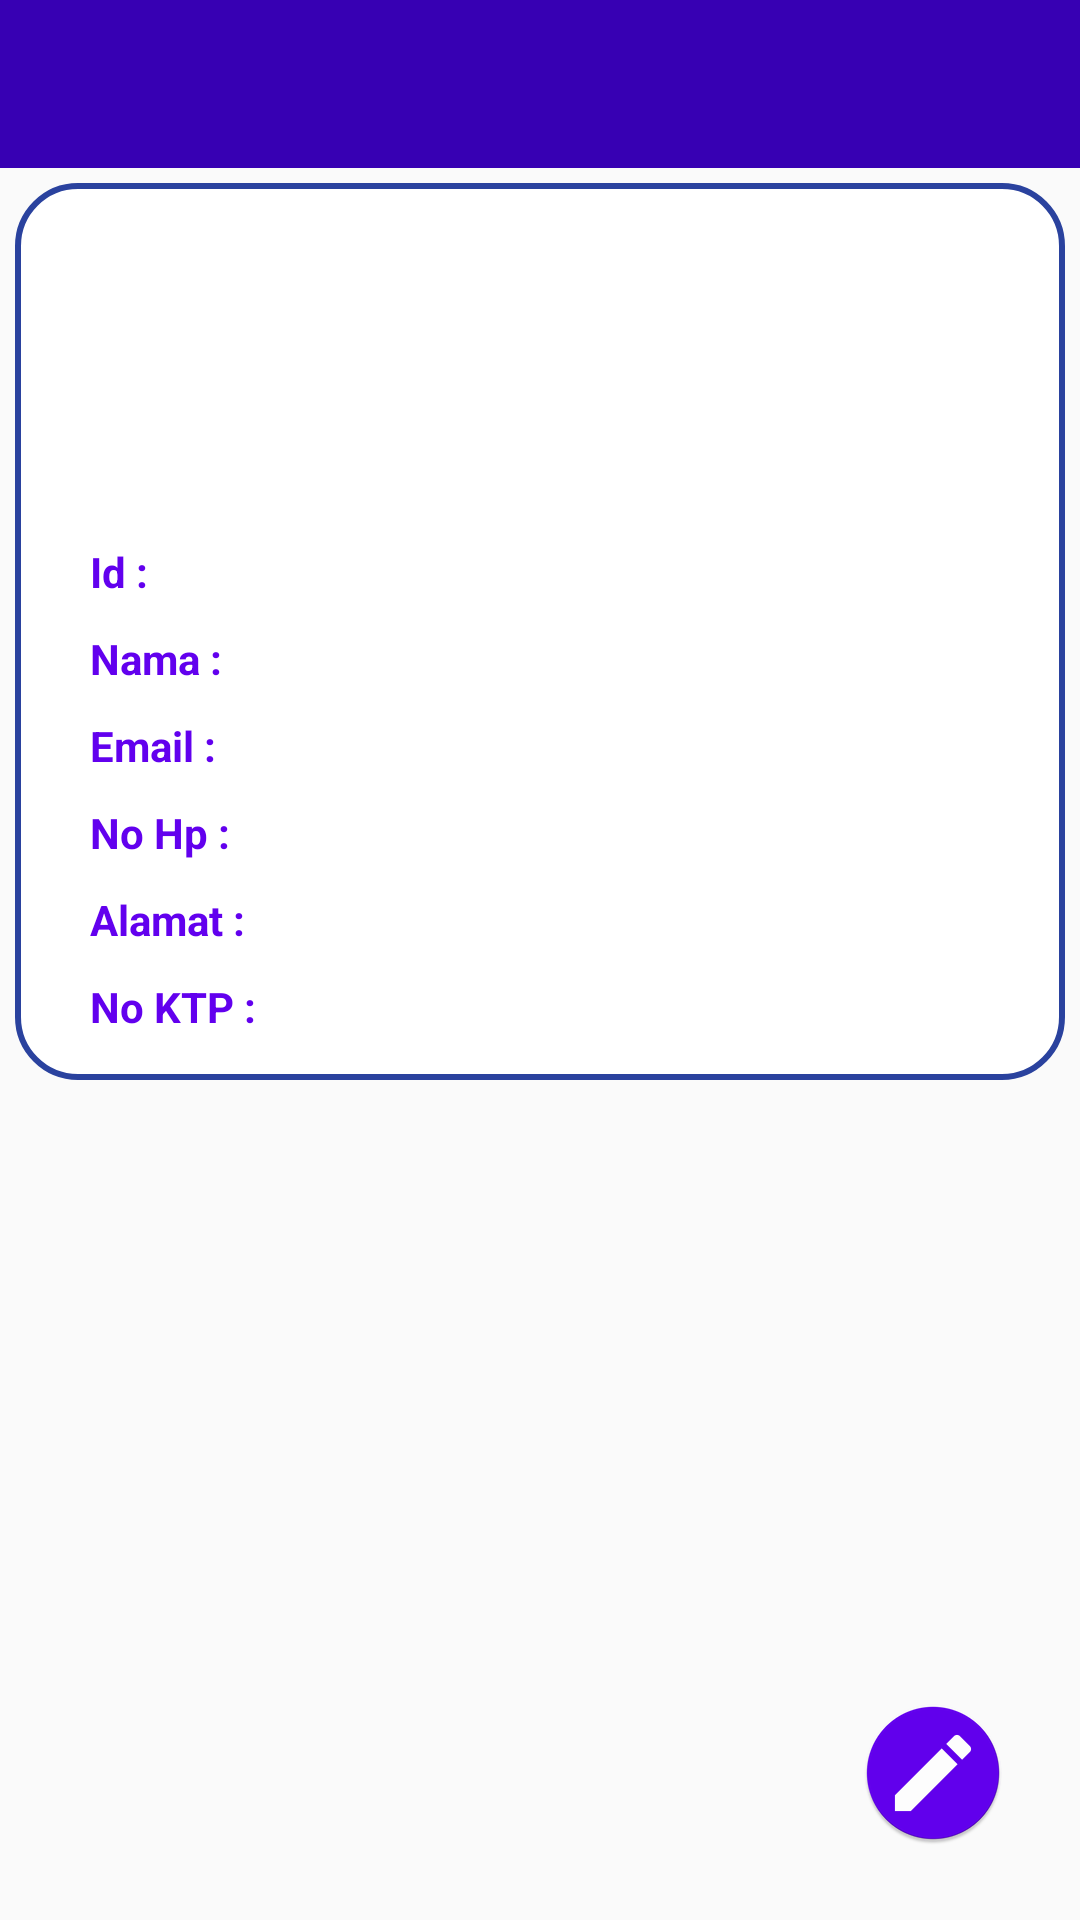

Named icons in this screenshot (1080×1920) and their bounding boxes, {"x1": x1, "y1": y1, "x2": x2, "y2": y2}:
edit: {"x1": 866, "y1": 1706, "x2": 1000, "y2": 1842}
